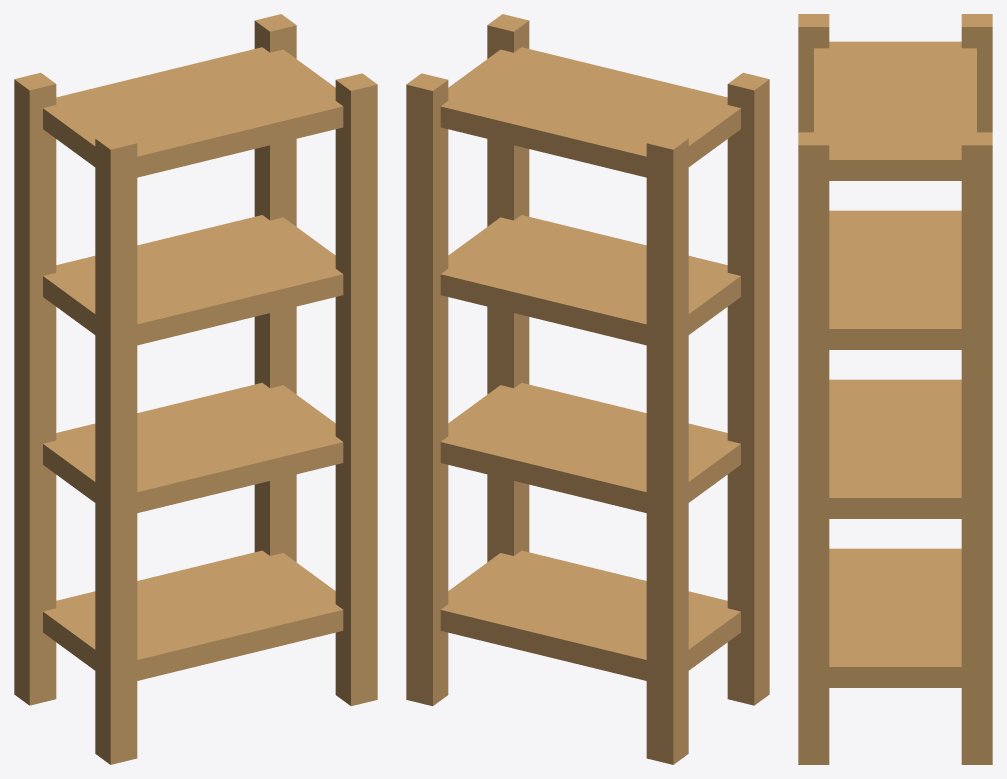
The model's file is bookcaseOpen.glb.
The picture shows the model from 3 angles, left to right: view 1: azimuth 30°, elevation 25°; view 2: azimuth 150°, elevation 25°; view 3: azimuth 270°, elevation 25°; orthographic projection.
Size of the model in its own units: 4 by 8.8 by 2.5.
